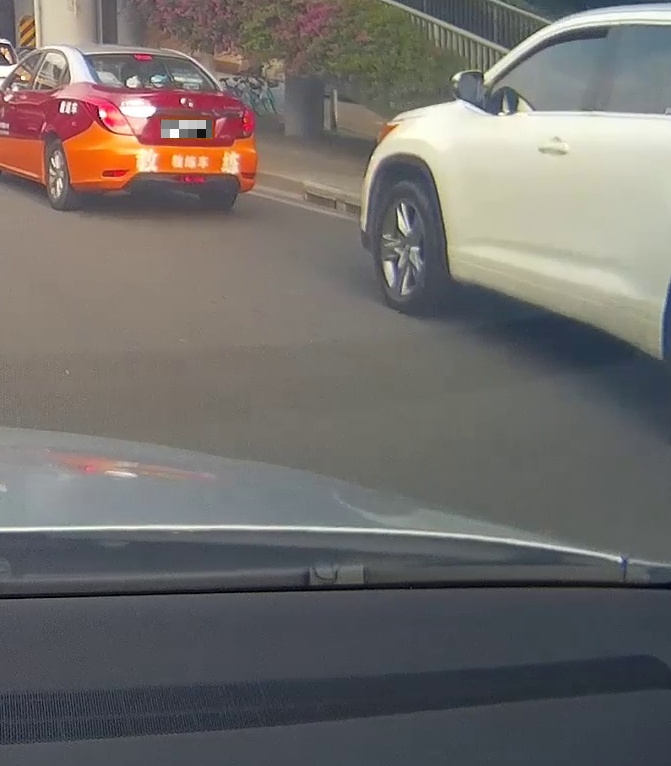L_light: (81, 95, 135, 136)
R_light: (235, 108, 255, 139)
T_light: (134, 54, 153, 60)
day-brake: (78, 44, 258, 210)
plate_1: (161, 120, 212, 138)
